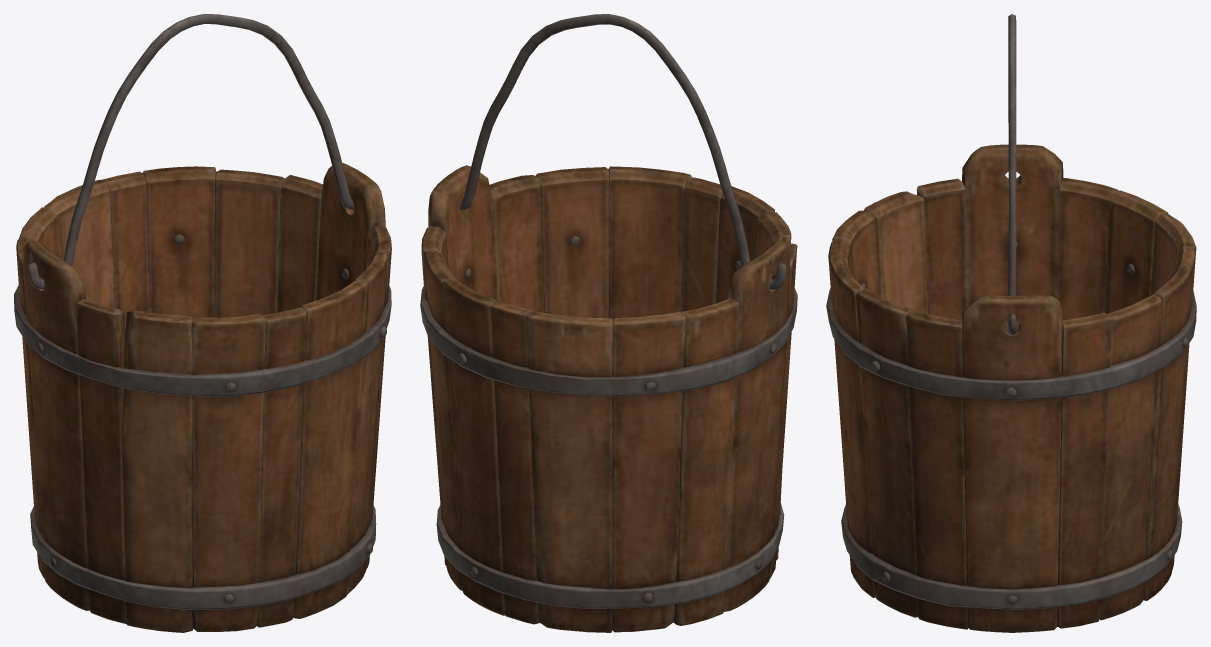
File: bucket.glb
3 views of the same model, side by side, from view 1: azimuth 30°, elevation 25°; view 2: azimuth 150°, elevation 25°; view 3: azimuth 270°, elevation 25° (orthographic).
Visible parts, largest first — view 1: wooden_bucket_01, wooden_bucket_01_handle; view 2: wooden_bucket_01, wooden_bucket_01_handle; view 3: wooden_bucket_01, wooden_bucket_01_handle.
Boxes of the visible parts, x1=… form: wooden_bucket_01: x1=14, y1=163, x2=391, y2=632; wooden_bucket_01_handle: x1=27, y1=14, x2=354, y2=289; wooden_bucket_01: x1=420, y1=165, x2=797, y2=632; wooden_bucket_01_handle: x1=437, y1=14, x2=786, y2=289; wooden_bucket_01: x1=826, y1=144, x2=1196, y2=632; wooden_bucket_01_handle: x1=1008, y1=14, x2=1016, y2=335.
Size of the model in its own units: 0.367 by 0.5499 by 0.3422.
Materials: 1 (1 with a texture image).
